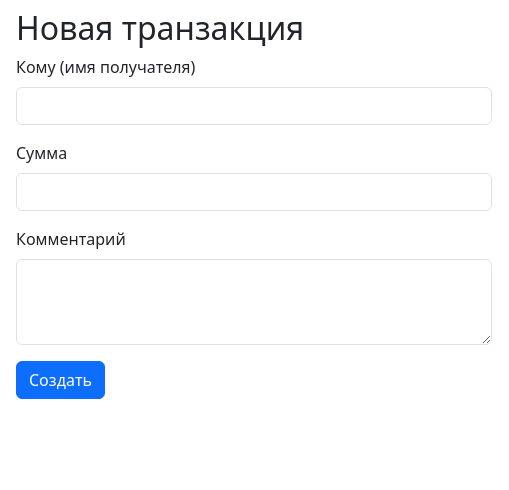
Scenario: NewTransaction page › submits new transaction form
In the field labelled "Кому (имя получателя)": (254, 106) 16,87 -> 492,125, type "UserB"
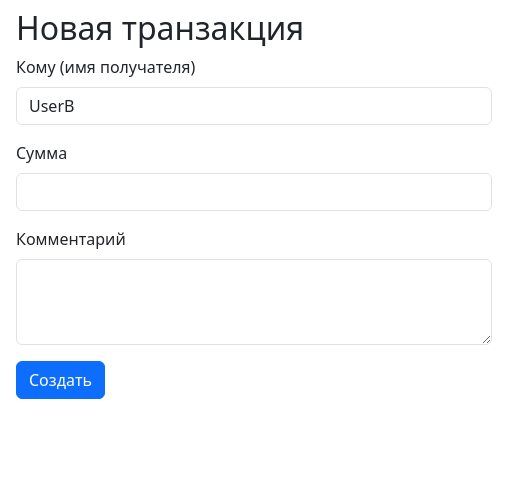
In the number field labelled "Сумма": (254, 192) 16,173 -> 492,211, type "150"
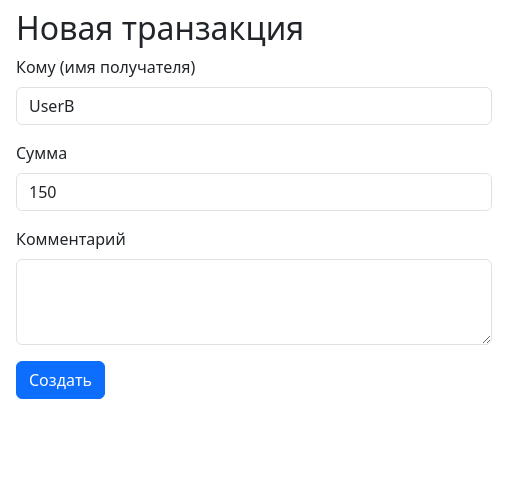
In the text box labelled "Комментарий": (254, 302) 16,259 -> 492,345, type "For dinner"
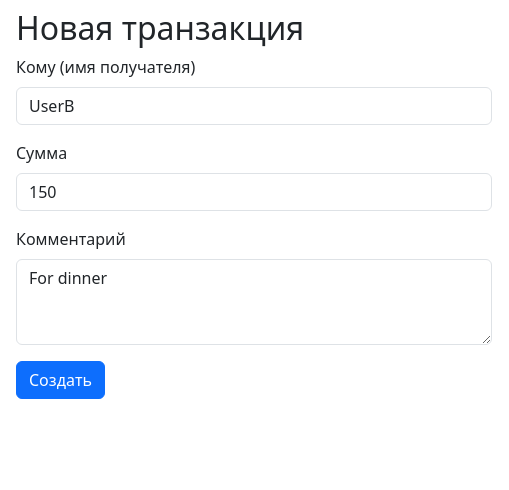
Click the button "Создать": click(60, 380) 16,361 -> 105,399
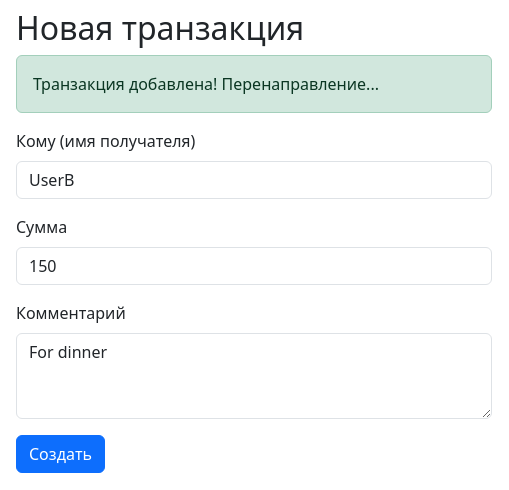
Expected: the text "Транзакция добавлена! Перенаправление..." is shown, 16,55 -> 492,113
